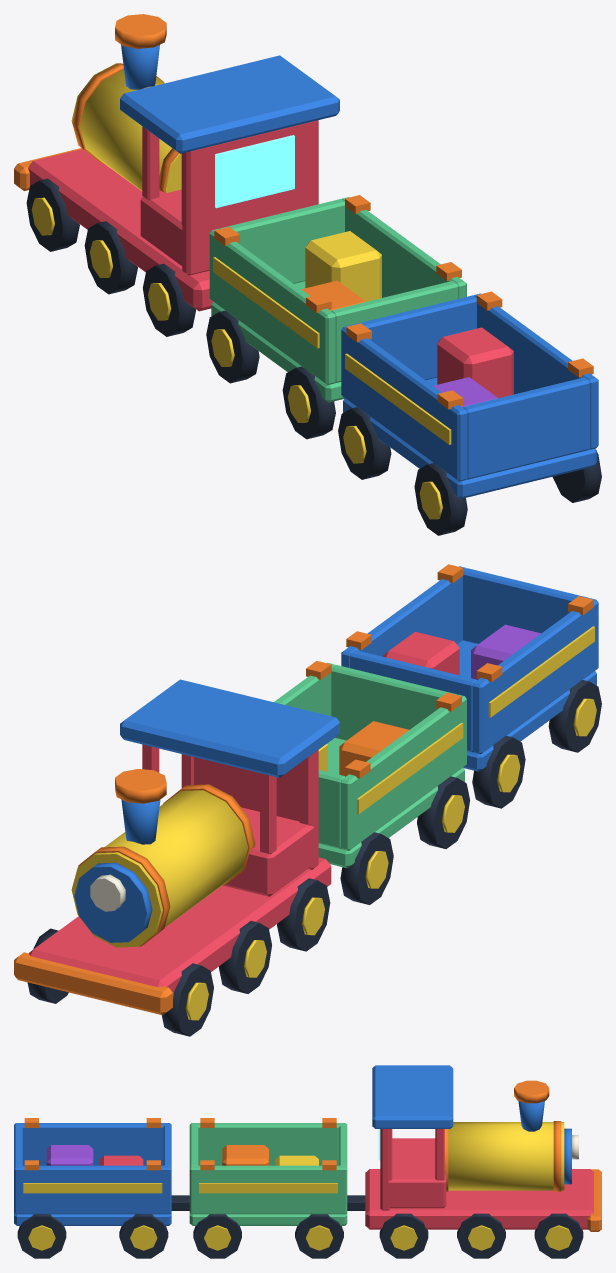
Rendered from fps_train.glb.
The picture shows the model from 3 angles, top to bottom: view 1: azimuth 30°, elevation 25°; view 2: azimuth 150°, elevation 25°; view 3: azimuth 270°, elevation 25°; orthographic projection. The views are drawn at different scales.
Parts seen in each view (by area): view 1: detail_Blueberry, detail_Coral, detail_Apple, detail_Lemon, detail_Ink navy, detail_Tangerine, Back window, Cargo block.003; view 2: detail_Blueberry, detail_Coral, detail_Lemon, detail_Apple, detail_Ink navy, detail_Tangerine, train_nose, Cargo block.003, Headlamp; view 3: detail_Blueberry, detail_Lemon, detail_Apple, detail_Coral, detail_Ink navy, detail_Tangerine, Cargo block.003, train_nose.
Part boxes in pixels (bbox=[...]): detail_Blueberry: bbox=[120, 45, 598, 498]; detail_Coral: bbox=[28, 120, 513, 398]; detail_Apple: bbox=[209, 197, 466, 402]; detail_Lemon: bbox=[31, 63, 451, 519]; detail_Ink navy: bbox=[26, 178, 601, 535]; detail_Tangerine: bbox=[72, 14, 593, 409]; Back window: bbox=[215, 135, 294, 208]; Cargo block.003: bbox=[433, 377, 497, 407]; detail_Blueberry: bbox=[74, 566, 598, 942]; detail_Coral: bbox=[29, 631, 459, 998]; detail_Lemon: bbox=[71, 626, 596, 1020]; detail_Apple: bbox=[274, 662, 466, 868]; detail_Ink navy: bbox=[27, 680, 601, 1036]; detail_Tangerine: bbox=[78, 564, 593, 946]; train_nose: bbox=[14, 952, 172, 1015]; Cargo block.003: bbox=[471, 624, 540, 680]; Headlamp: bbox=[90, 874, 125, 911]; detail_Blueberry: bbox=[14, 1065, 571, 1225]; detail_Lemon: bbox=[23, 1122, 572, 1250]; detail_Apple: bbox=[189, 1123, 347, 1225]; detail_Coral: bbox=[99, 1129, 593, 1229]; detail_Ink navy: bbox=[17, 1195, 583, 1258]; detail_Tangerine: bbox=[24, 1080, 561, 1191]; Cargo block.003: bbox=[46, 1145, 93, 1165]; train_nose: bbox=[587, 1169, 601, 1231].
Bounding box in the file's own units: 1.76 × 2.25 × 8.2.
